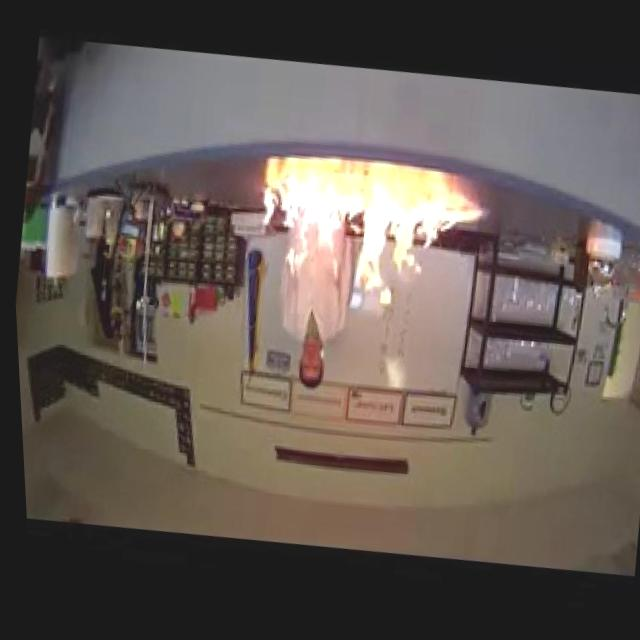Fire: (241, 175, 490, 331)
